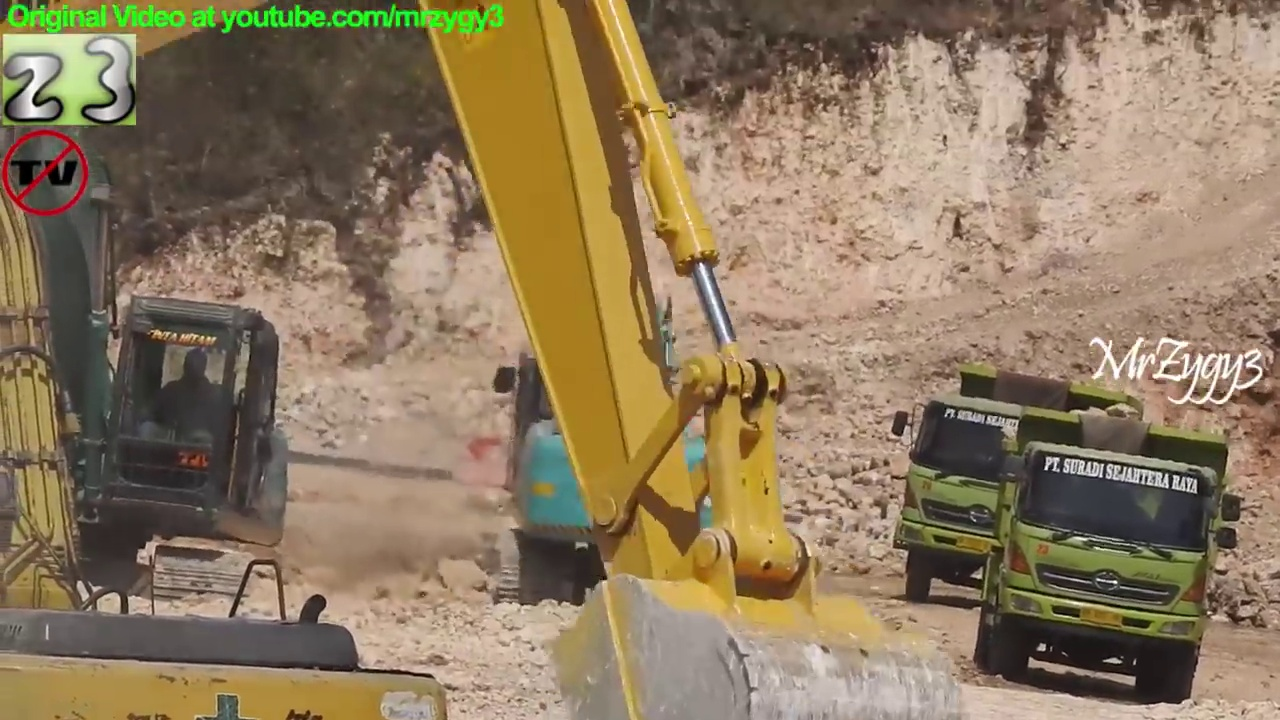excavator: (1, 1, 978, 720), (1, 100, 455, 720), (1, 32, 300, 631), (491, 151, 791, 626)
truck: (971, 406, 1247, 709), (891, 359, 1151, 616)
